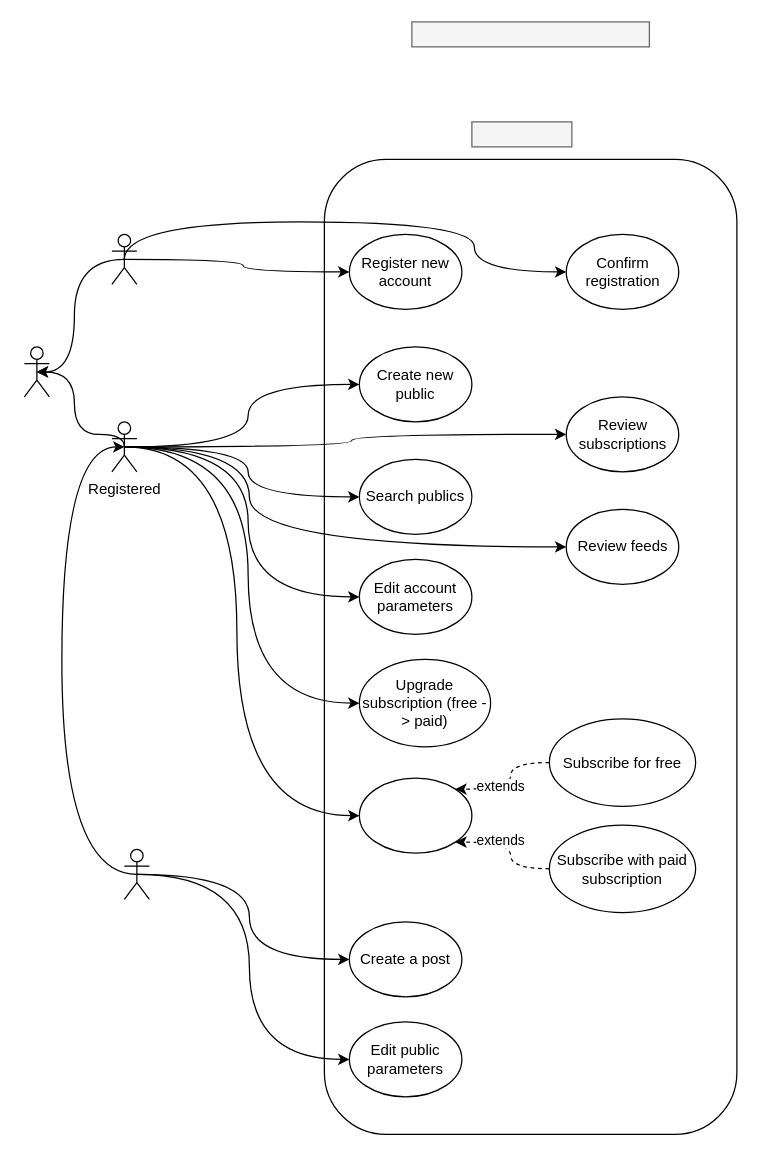
Some shapes in this 759 by 1156 pixel diagram are drawn without their labels. The centre of each missing label's shape, as x and y in pixels:
ArtPlace app: the point at 521,134
ArtPlace use-case diagram: the point at 530,34
Not registered: the point at 124,258
Public owner: the point at 136,873
Subscribe a public: the point at 415,815
User: the point at 36,371
